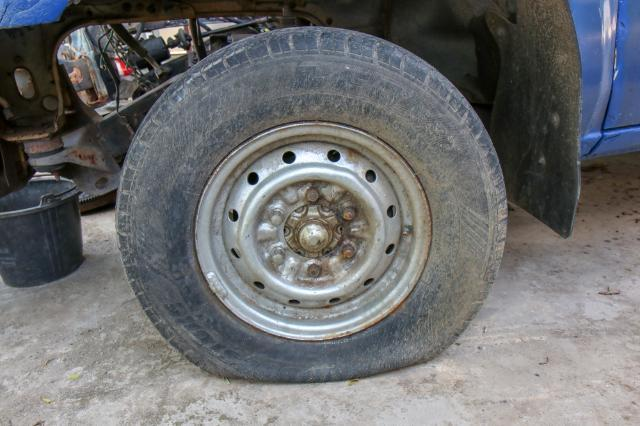no part: (5, 2, 257, 144)
tire flat: (116, 25, 506, 383)
